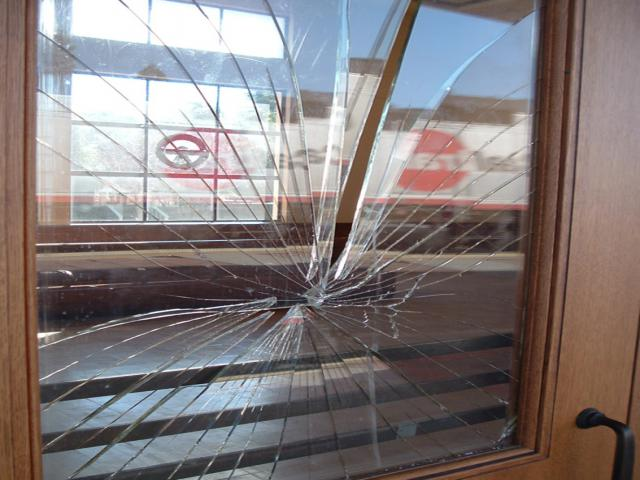Door-handle: (574, 408, 636, 480)
